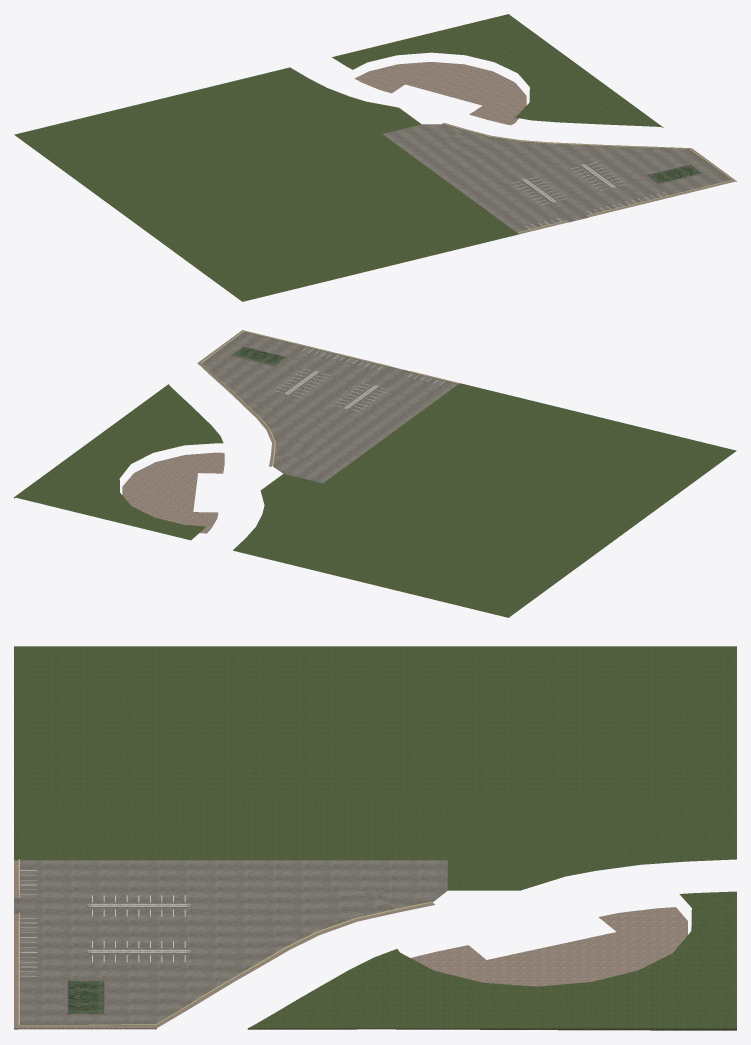
The model's file is vgseland01_lvs.obj.
3 views of the same model, one above another, from view 1: azimuth 30°, elevation 25°; view 2: azimuth 150°, elevation 25°; view 3: azimuth 270°, elevation 25° (orthographic). The views are drawn at different scales.
Visible parts, largest first — view 1: vgsEland01_lvs; view 2: vgsEland01_lvs; view 3: vgsEland01_lvs.
Part boxes in pixels (x1,y1,x2,y2): vgsEland01_lvs: (14,14,736,301); vgsEland01_lvs: (14,330,736,617); vgsEland01_lvs: (14,646,736,1030).
Bounding box in the file's own units: 250 × 4.24 × 200.
11 materials, 11 textured.
